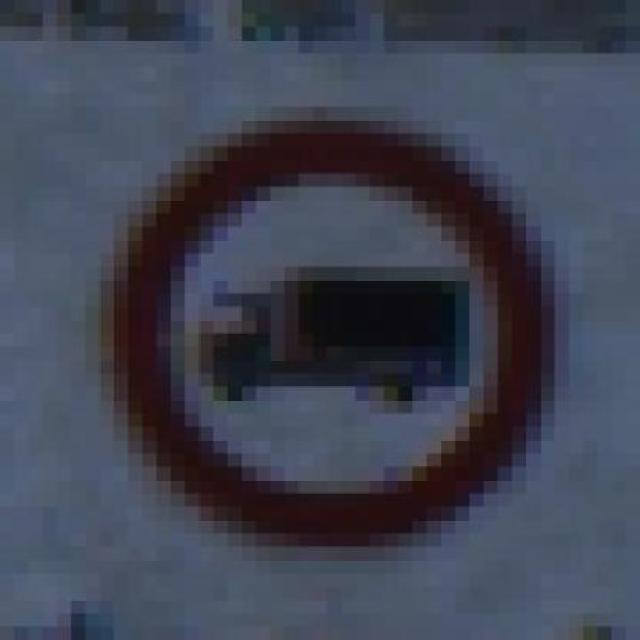Truck traffic is prohibited: (71, 106, 583, 560)
